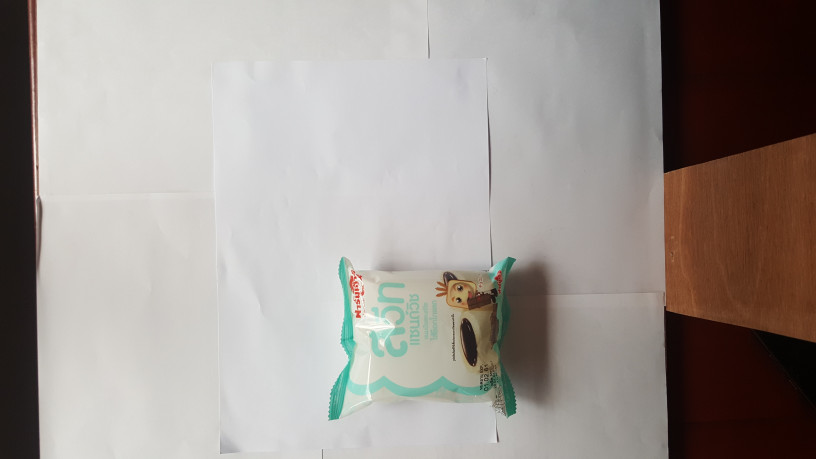farmhouse-sweetsandwich-chocolate: (323, 253, 521, 423)
